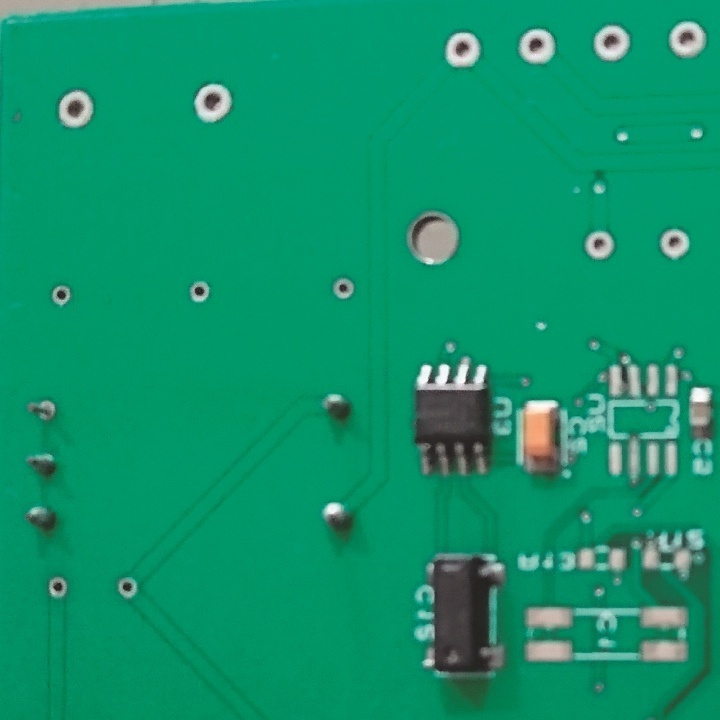F: (51, 86, 97, 133), (190, 80, 236, 126), (441, 29, 486, 72), (664, 20, 710, 60), (516, 24, 559, 66), (591, 26, 636, 63), (653, 226, 696, 263), (582, 229, 621, 261), (26, 395, 61, 423), (329, 274, 359, 302), (186, 279, 214, 305), (44, 575, 73, 600), (48, 284, 75, 309), (114, 575, 141, 600)
